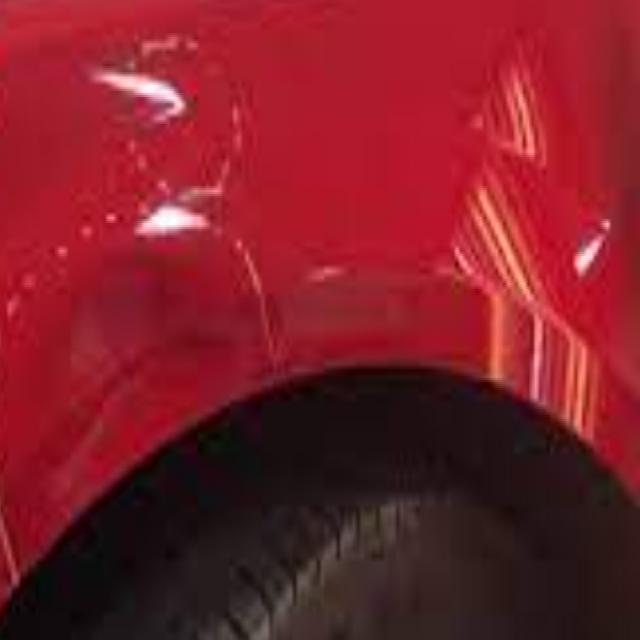dents: (51, 251, 273, 426)
